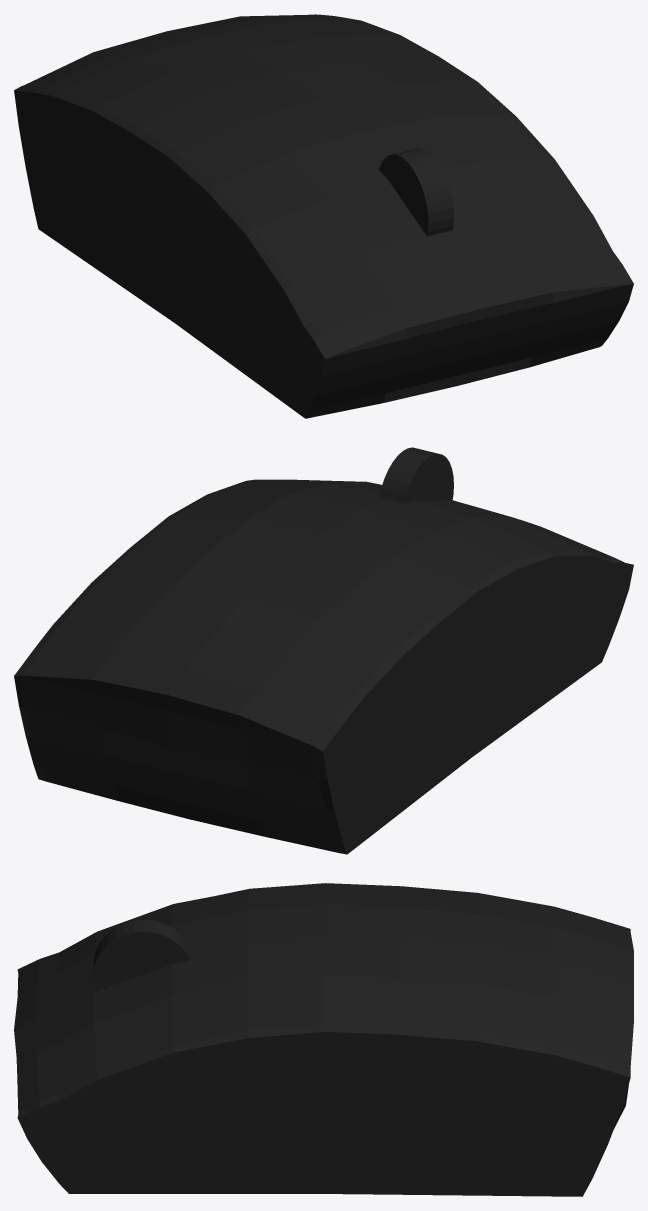
File: mouse (6_5) Para Unity.fbx
3 views of the same model, one above another, from view 1: azimuth 30°, elevation 25°; view 2: azimuth 150°, elevation 25°; view 3: azimuth 270°, elevation 25° (orthographic).
Visible parts, largest first — view 1: Plane; view 2: Plane; view 3: Plane.
Part boxes in pixels (x1,y1,x2,y2): Plane: [14, 14, 633, 418]; Plane: [14, 447, 633, 854]; Plane: [14, 883, 633, 1196].
Bounding box in the file's own units: 68.45 × 42.39 × 121.
Materials: 1 (1 with a texture image).
